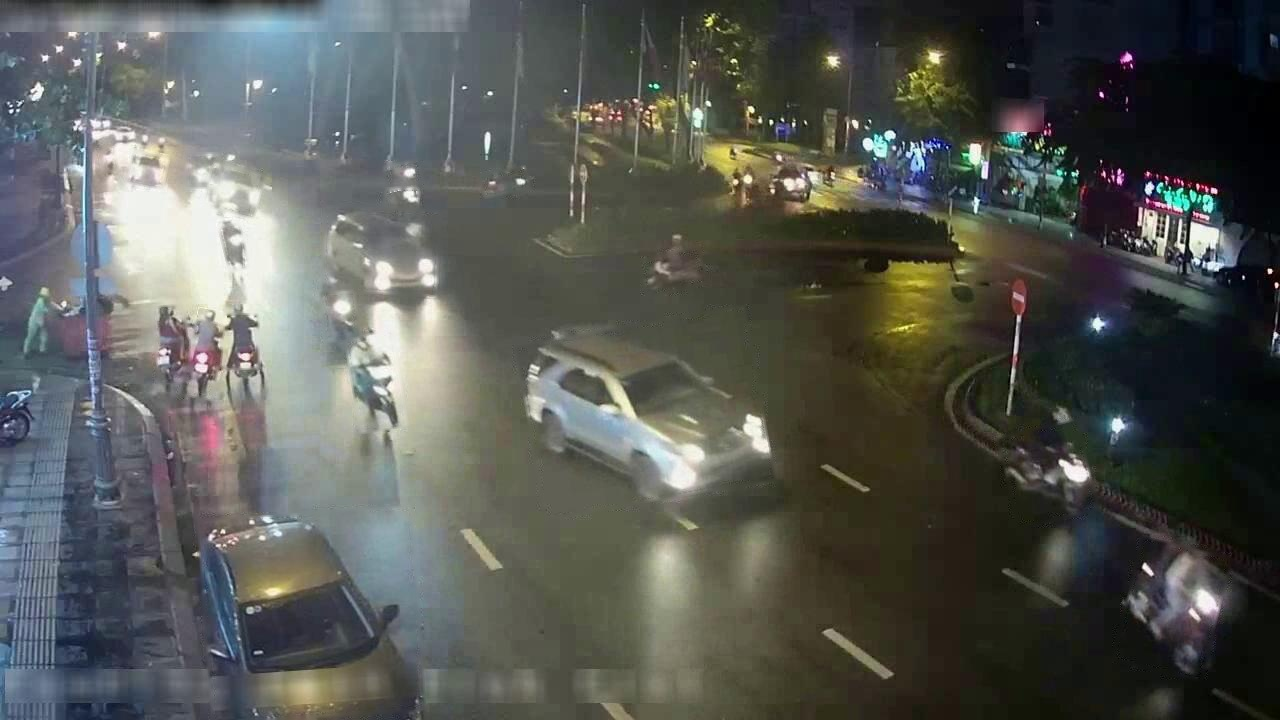Car: (524, 326, 775, 501), (200, 515, 397, 674), (1125, 545, 1230, 677), (325, 213, 438, 296), (207, 164, 262, 215), (770, 164, 811, 201), (188, 152, 220, 185), (129, 155, 163, 185), (303, 137, 318, 159)
Motorcycle: (353, 364, 398, 428), (0, 389, 32, 445)
Motorcyclist: (1003, 423, 1093, 511), (226, 304, 264, 393), (191, 309, 222, 397), (321, 276, 357, 345), (646, 250, 702, 288), (157, 305, 188, 367), (483, 169, 529, 197), (220, 220, 244, 269), (383, 187, 420, 215), (384, 162, 418, 187), (104, 149, 114, 175)
Pedestrian: (23, 286, 51, 357)
Sign: (1010, 278, 1027, 316)
